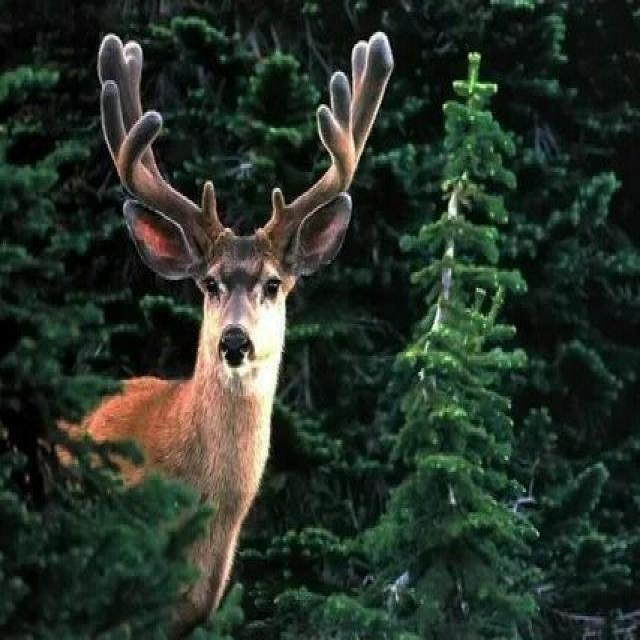deer: (42, 47, 460, 584)
